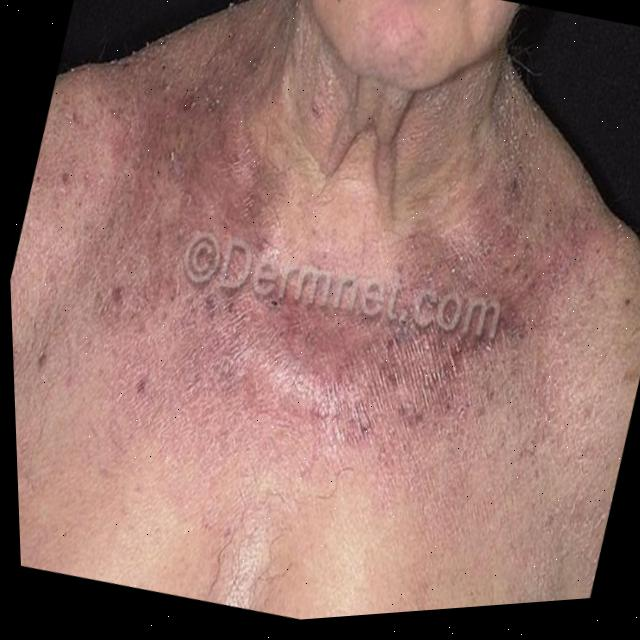Eczema: (65, 78, 592, 524)
